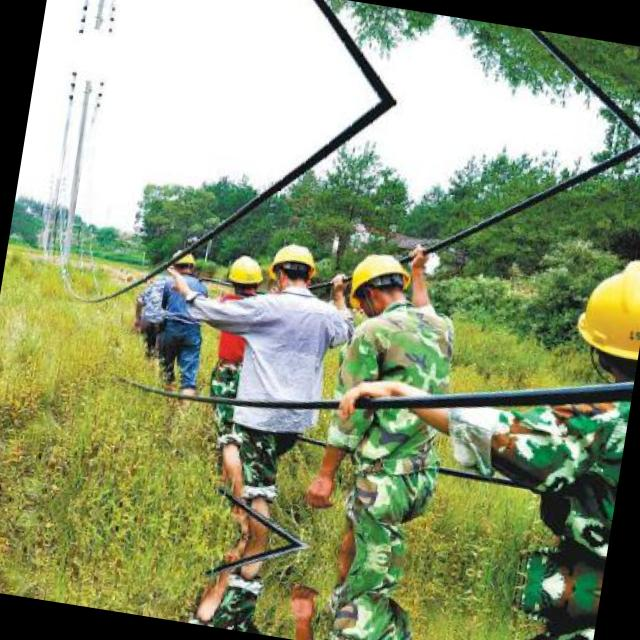helmet: (573, 247, 640, 389), (338, 242, 419, 323), (262, 237, 322, 297), (223, 251, 266, 299), (162, 238, 202, 280)
